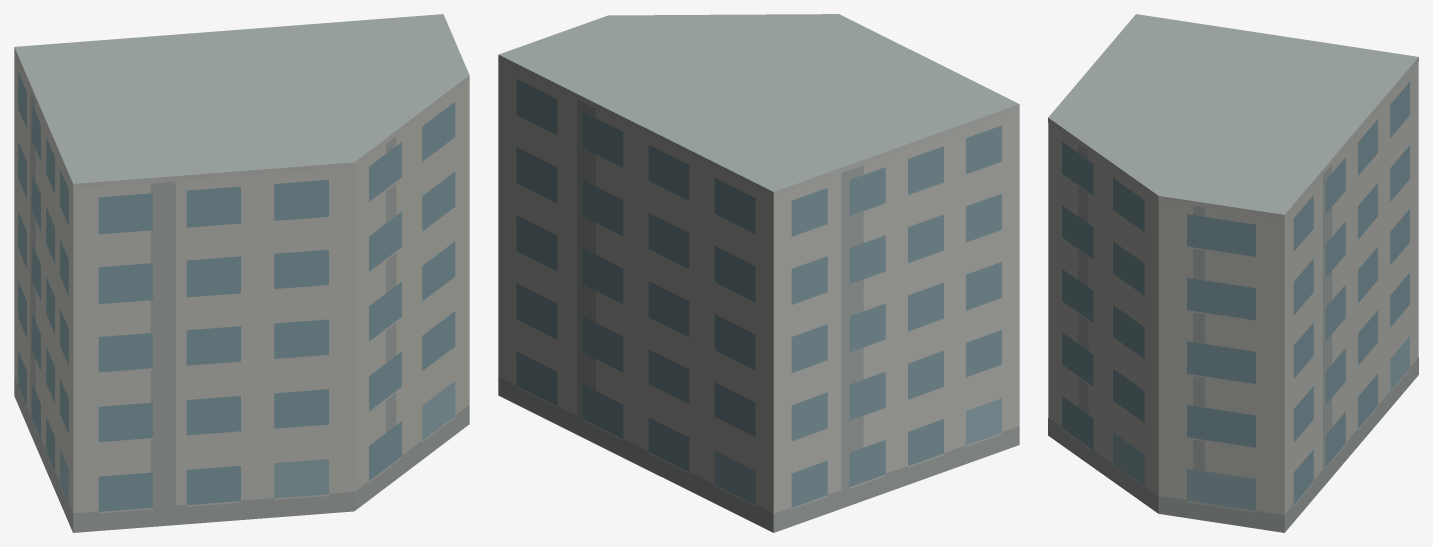
The model's file is residential-0d18c92e-94ef-4fe8-bb8a-fb4a344852d5.glb.
3 renders of one model, left to right at view 1: azimuth 30°, elevation 25°; view 2: azimuth 150°, elevation 25°; view 3: azimuth 270°, elevation 25°, orthographic. The views are drawn at different scales.
Parts seen in each view (by area): view 1: residential-0d18c92e-94ef-4fe8-bb8a-fb4a344852d5.tmp; view 2: residential-0d18c92e-94ef-4fe8-bb8a-fb4a344852d5.tmp; view 3: residential-0d18c92e-94ef-4fe8-bb8a-fb4a344852d5.tmp.
Part boxes in pixels (x1=…): residential-0d18c92e-94ef-4fe8-bb8a-fb4a344852d5.tmp: x1=14, y1=14, x2=469, y2=532; residential-0d18c92e-94ef-4fe8-bb8a-fb4a344852d5.tmp: x1=498, y1=14, x2=1019, y2=532; residential-0d18c92e-94ef-4fe8-bb8a-fb4a344852d5.tmp: x1=1048, y1=14, x2=1418, y2=532.
Size of the model in its own units: 20.68 by 15.25 by 16.12.
